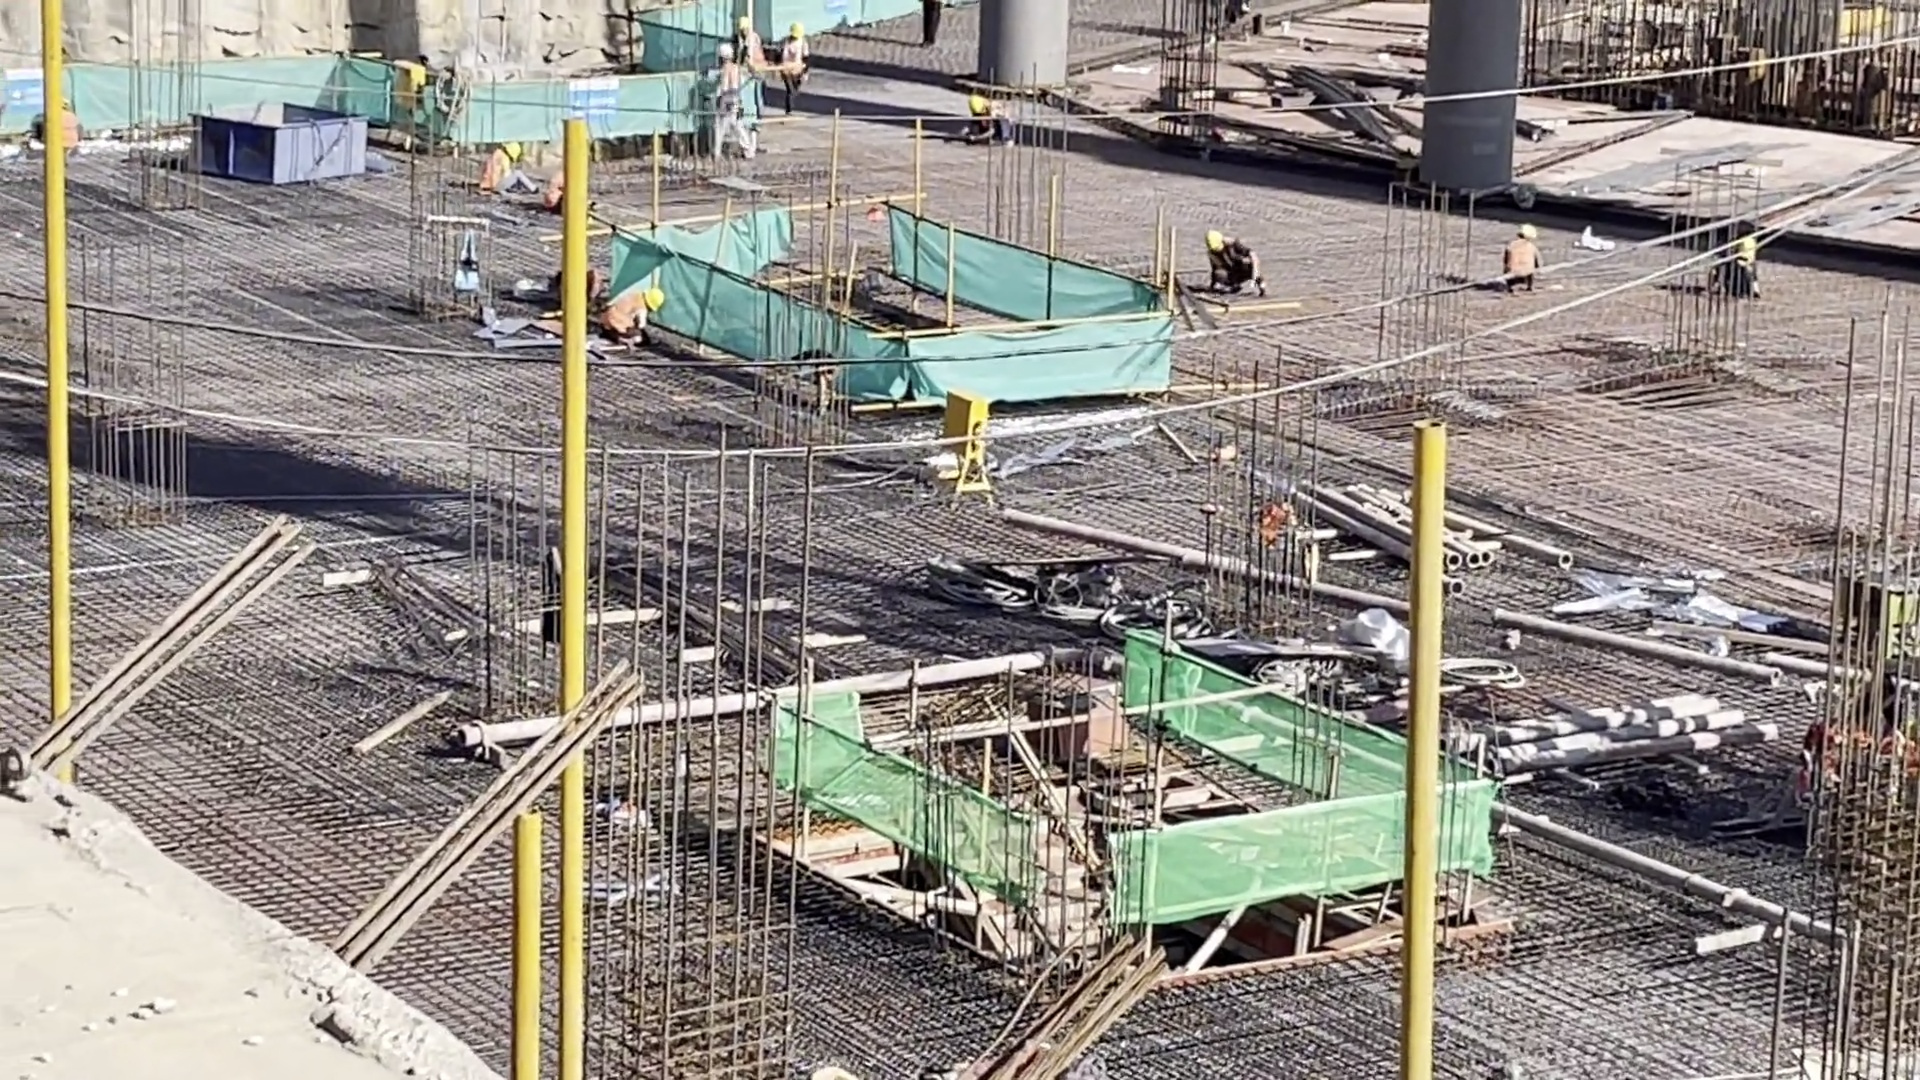ebox: (939, 389, 994, 491), (390, 60, 423, 114)
helmet: (1736, 234, 1756, 260), (643, 288, 665, 312), (503, 140, 521, 163), (1205, 231, 1223, 249), (1519, 223, 1536, 239), (968, 97, 983, 113), (789, 22, 802, 37)
hopper: (192, 101, 369, 179)
person: (711, 45, 751, 162), (1202, 231, 1263, 301), (606, 289, 668, 341), (737, 18, 765, 119), (1502, 220, 1540, 292), (481, 139, 523, 196), (962, 96, 1011, 147), (783, 22, 806, 115)
slogan: (566, 81, 621, 120)
vest: (609, 292, 642, 339), (1508, 237, 1536, 281), (782, 39, 801, 85), (479, 153, 498, 188)
